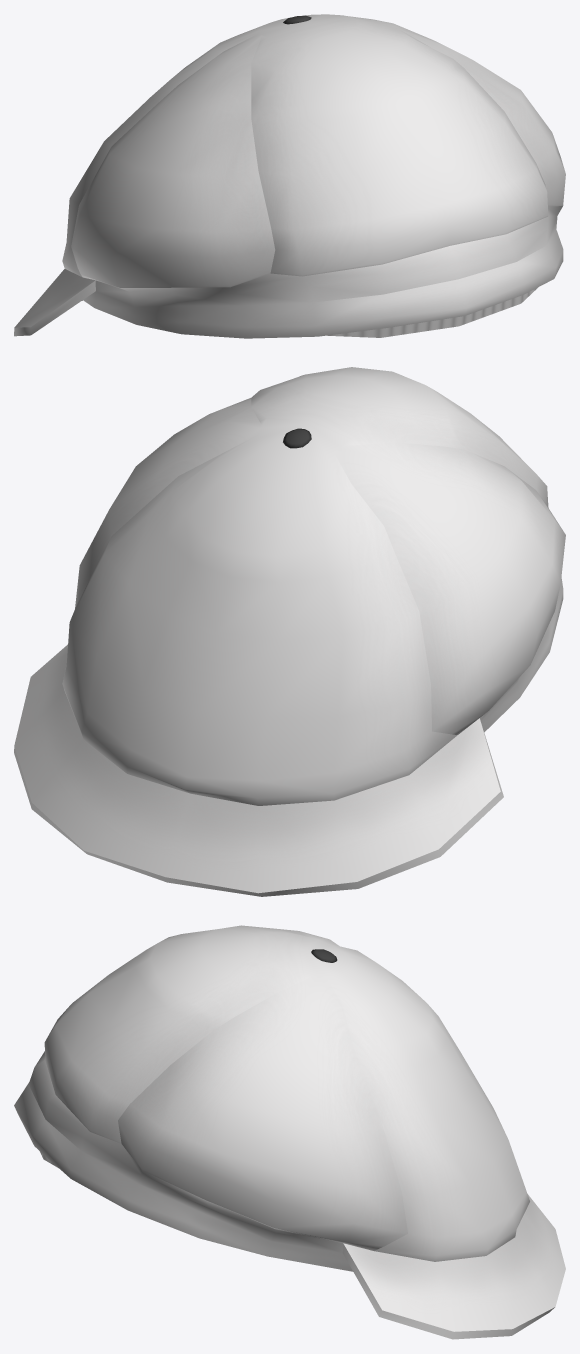
Rendered from FlatCap_pearl.glb.
3 views of the same model, one above another, from view 1: azimuth 30°, elevation 25°; view 2: azimuth 150°, elevation 25°; view 3: azimuth 270°, elevation 25° (orthographic). The views are drawn at different scales.
Visible parts, largest first — view 1: Cube; view 2: Cube; view 3: Cube.
Boxes of the visible parts, x1=… form: Cube: x1=14, y1=14, x2=565, y2=338; Cube: x1=14, y1=367, x2=565, y2=896; Cube: x1=14, y1=925, x2=565, y2=1339.
Size of the model in its own units: 0.2121 by 0.1552 by 0.2342.
1 material, 1 textured.
